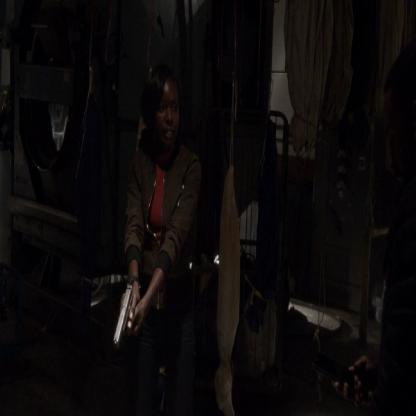Guns: (108, 278, 137, 350)
